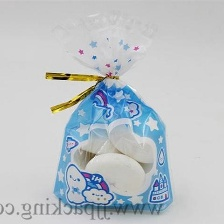snack: (34, 0, 181, 220)
